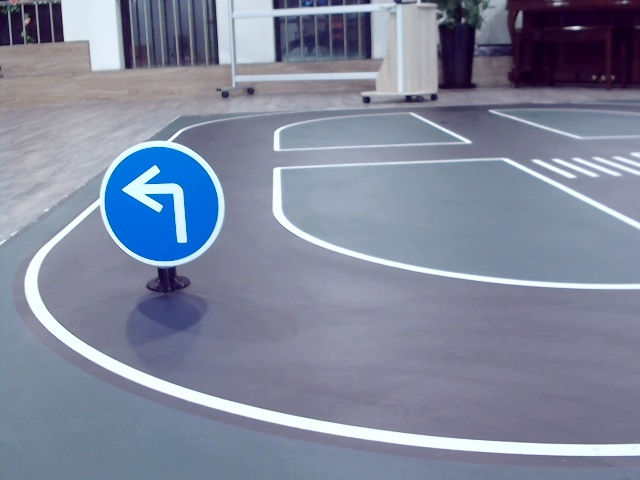turn_left: (123, 165, 193, 246)
